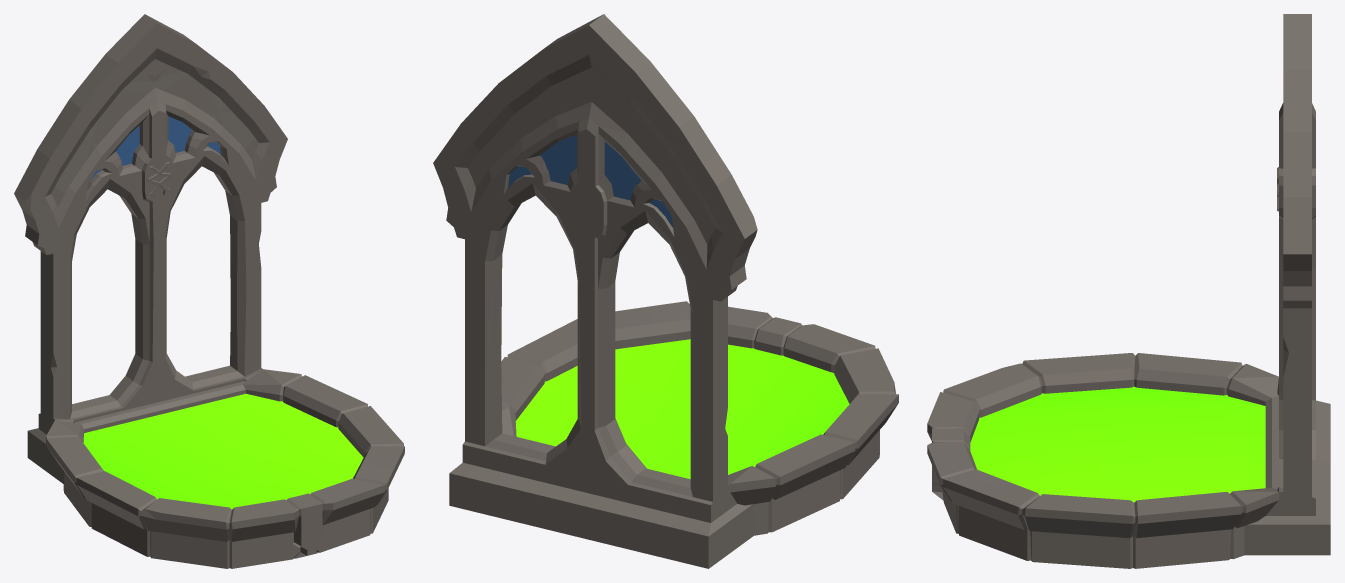
File: el_bld_beacon.gltf
The picture shows the model from 3 angles, left to right: view 1: azimuth 30°, elevation 25°; view 2: azimuth 150°, elevation 25°; view 3: azimuth 270°, elevation 25°; orthographic projection. The views are drawn at different scales.
Visible parts, largest first — view 1: el_bld_beacon; view 2: el_bld_beacon; view 3: el_bld_beacon.
Boxes of the visible parts, bbox=[...] form: el_bld_beacon: bbox=[14, 14, 404, 568]; el_bld_beacon: bbox=[433, 14, 898, 568]; el_bld_beacon: bbox=[927, 14, 1330, 568].
Size of the model in its own units: 2.18 by 3 by 2.28.
Materials: 2 (2 with a texture image).
